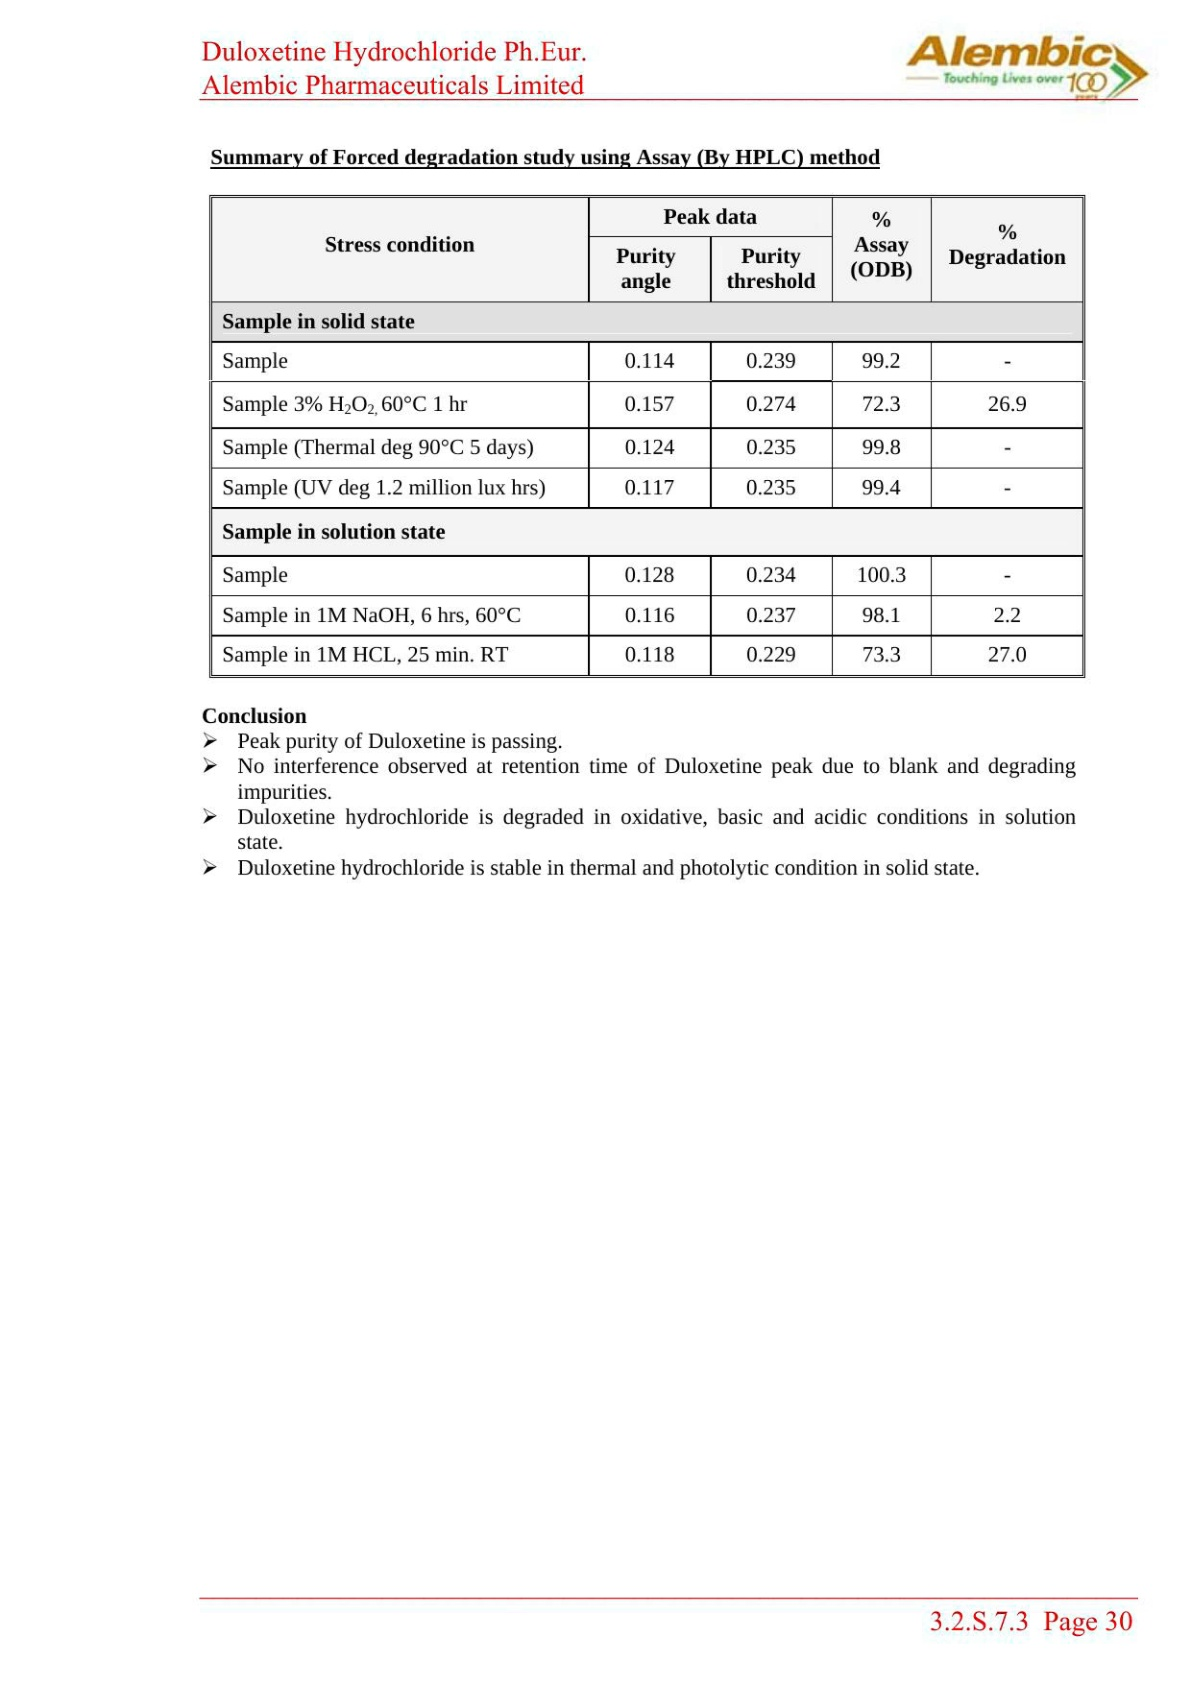merged_cells: (209, 193, 1087, 678)
